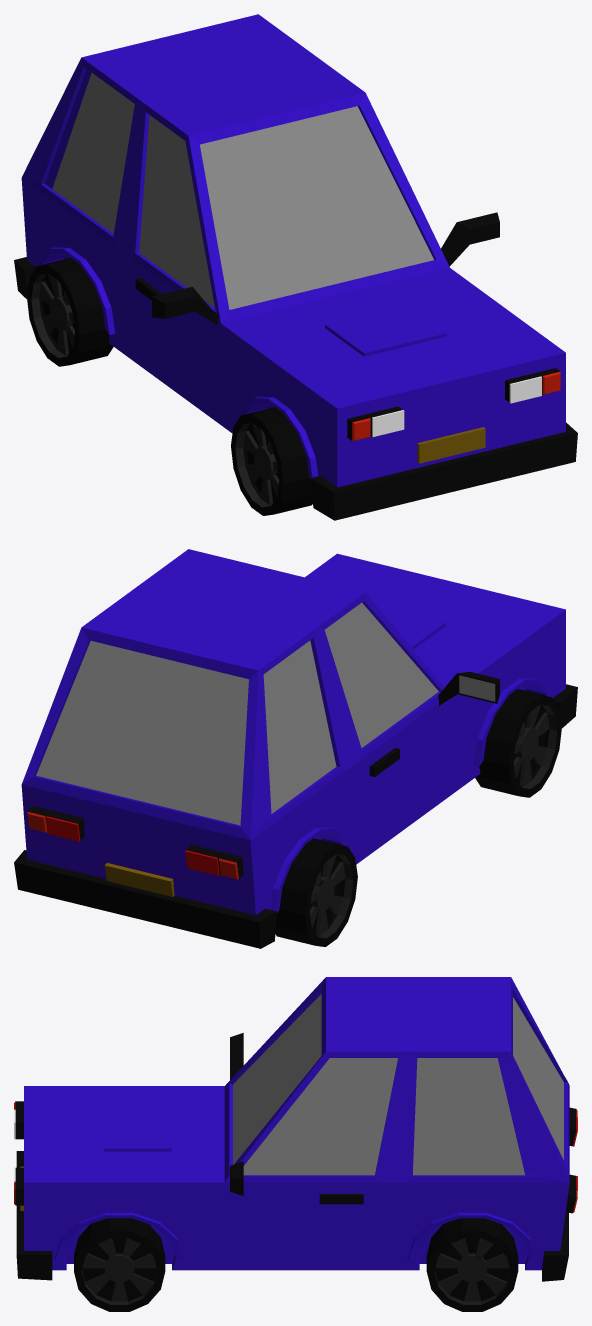
Rendered from PrubaSize.obj.
3 views of the same model, one above another, from view 1: azimuth 30°, elevation 25°; view 2: azimuth 150°, elevation 25°; view 3: azimuth 270°, elevation 25° (orthographic). The views are drawn at different scales.
Parts seen in each view (by area): view 1: Car_Body, Back_Tire, Front_Tire, Back, Front; view 2: Car_Body, Front_Tire, Back_Tire, Front, Back; view 3: Car_Body, Back_Tire, Front_Tire, Front, Back.
Boxes of the visible parts, left/top/right/bottom form: Car_Body: left=14, top=14, right=577, bottom=520; Back_Tire: left=27, top=258, right=113, bottom=366; Front_Tire: left=231, top=407, right=312, bottom=515; Back: left=37, top=247, right=115, bottom=334; Front: left=241, top=396, right=318, bottom=479; Car_Body: left=14, top=549, right=577, bottom=948; Front_Tire: left=475, top=689, right=561, bottom=797; Back_Tire: left=275, top=838, right=357, bottom=946; Front: left=473, top=678, right=551, bottom=766; Back: left=270, top=827, right=347, bottom=912; Car_Body: left=14, top=977, right=577, bottom=1281; Back_Tire: left=426, top=1218, right=518, bottom=1311; Front_Tire: left=74, top=1218, right=165, bottom=1311; Front: left=54, top=1212, right=183, bottom=1260; Back: left=407, top=1212, right=536, bottom=1260.
Bounding box in the file's own units: 5.22 × 3.99 × 8.53.
